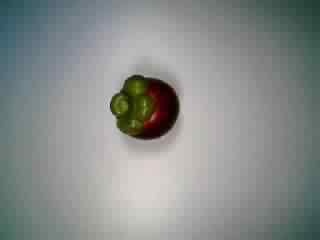mangosteen: (104, 70, 182, 146)
